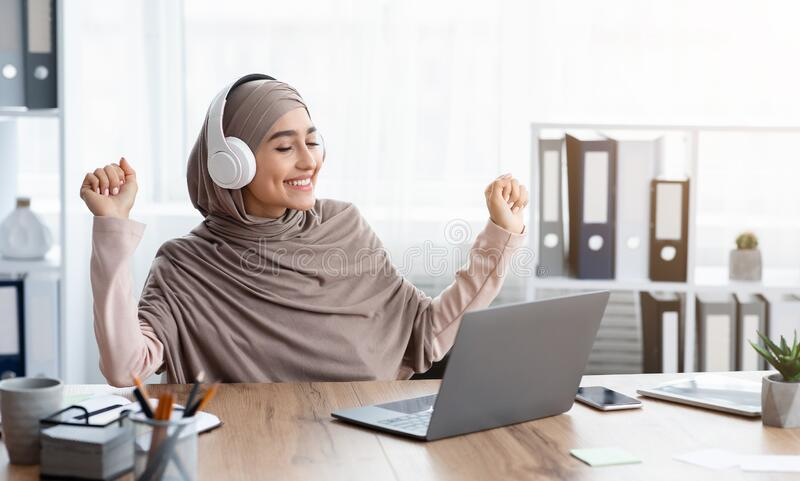No Mask: (256, 99, 344, 237)
